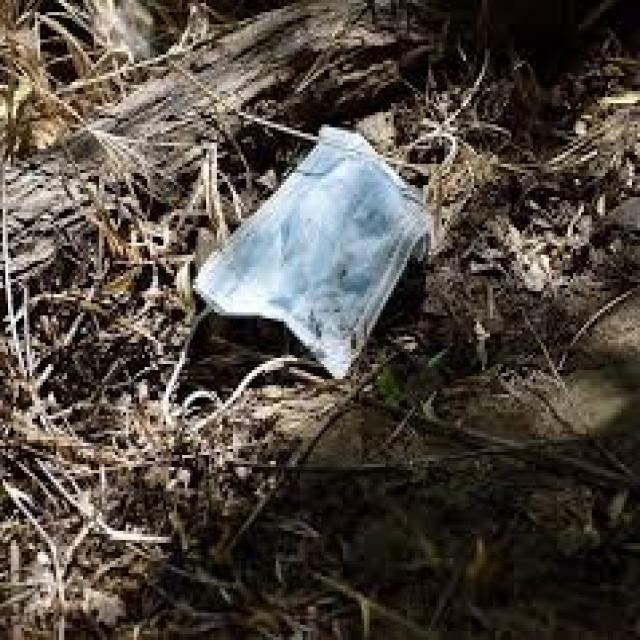face_mask: (162, 125, 448, 383)
